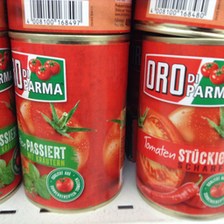tomato_sauce: (8, 30, 130, 213), (136, 32, 224, 220)
